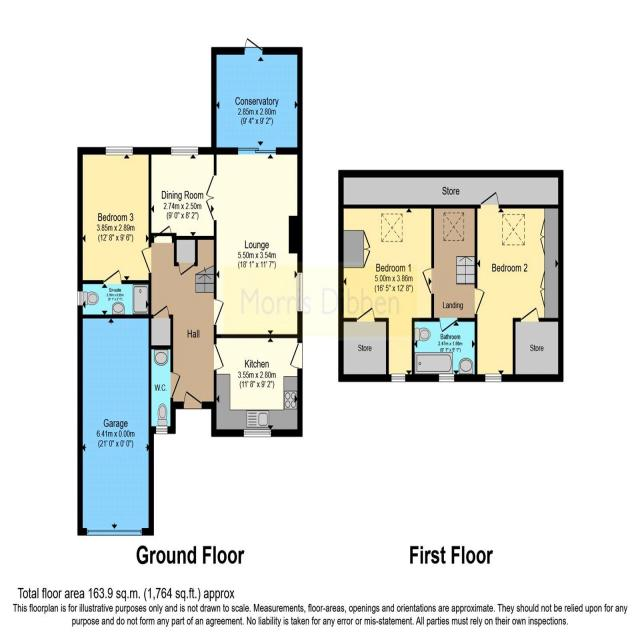DOOR: (289, 342, 303, 369), (421, 267, 434, 295), (480, 190, 499, 209), (183, 390, 202, 409), (474, 287, 486, 315), (214, 343, 225, 371), (170, 371, 181, 399), (439, 318, 458, 334), (103, 268, 122, 284), (140, 246, 151, 273), (214, 298, 224, 325)
DOUBLE DOOR: (205, 174, 217, 221)
ROOM: (205, 147, 303, 338), (474, 191, 564, 383), (338, 204, 434, 382), (77, 146, 152, 284), (211, 334, 303, 437), (148, 147, 217, 240)
WINDOW: (296, 272, 303, 312), (105, 146, 133, 156), (171, 146, 199, 156), (243, 429, 272, 438), (485, 373, 502, 383), (438, 373, 455, 383), (391, 373, 406, 382), (156, 425, 168, 435), (77, 291, 83, 306)
